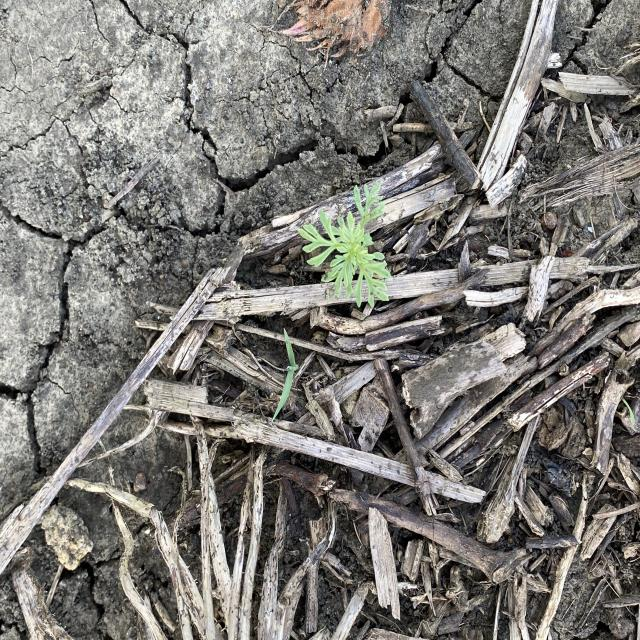Ragweed: (294, 180, 398, 319)
